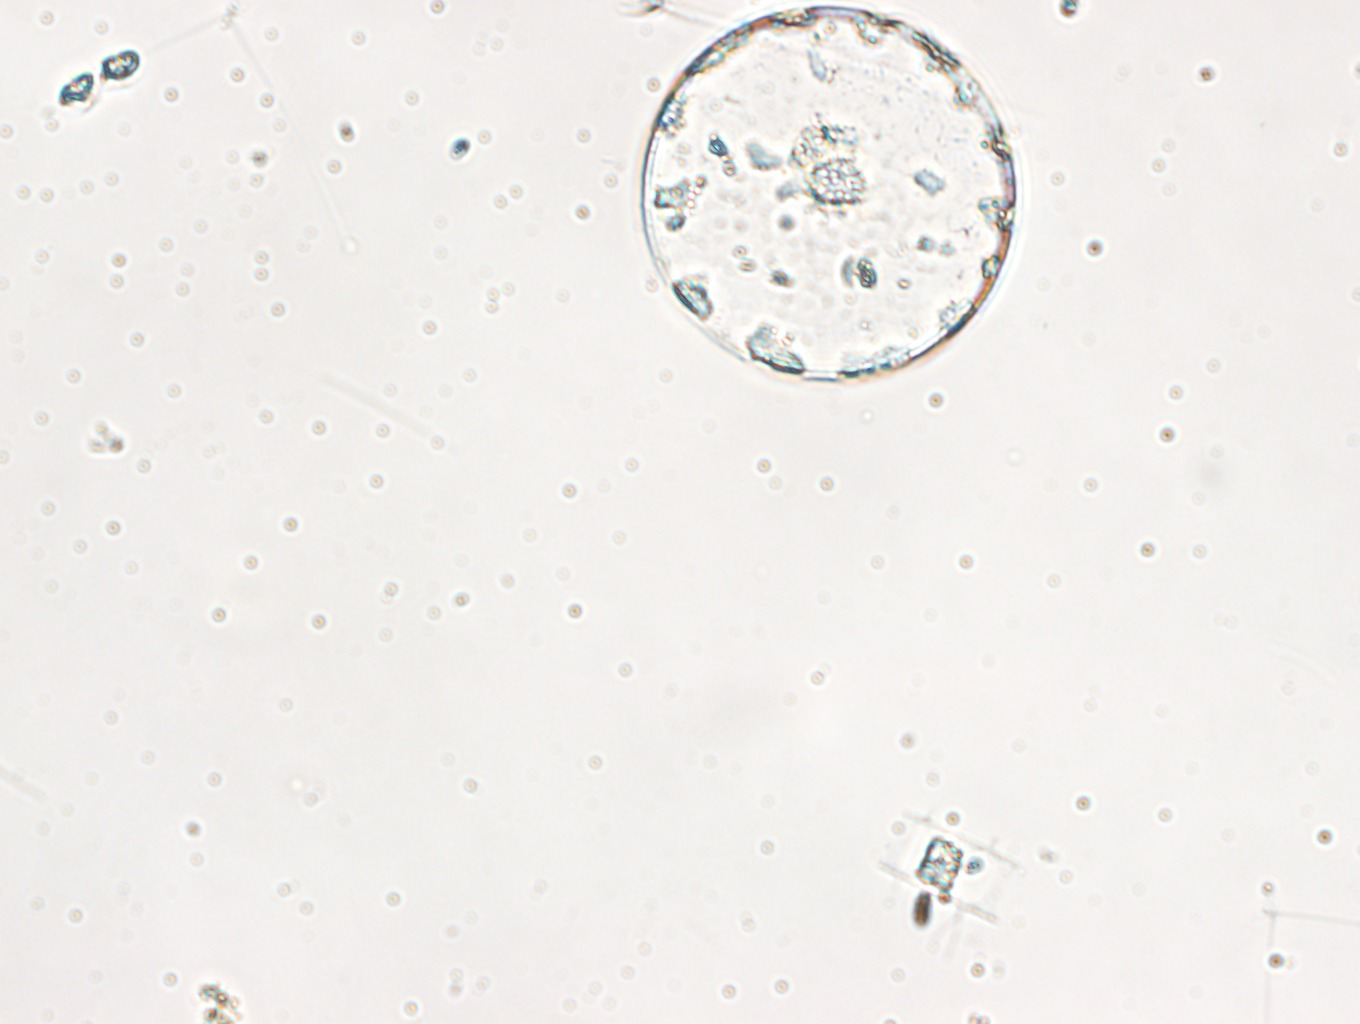coscinodiscus: (640, 5, 1017, 381)
